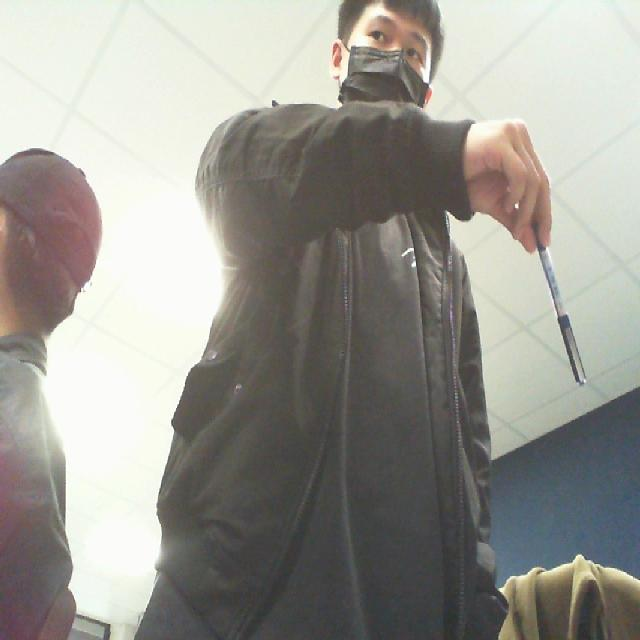Pen: (521, 195, 596, 408)
